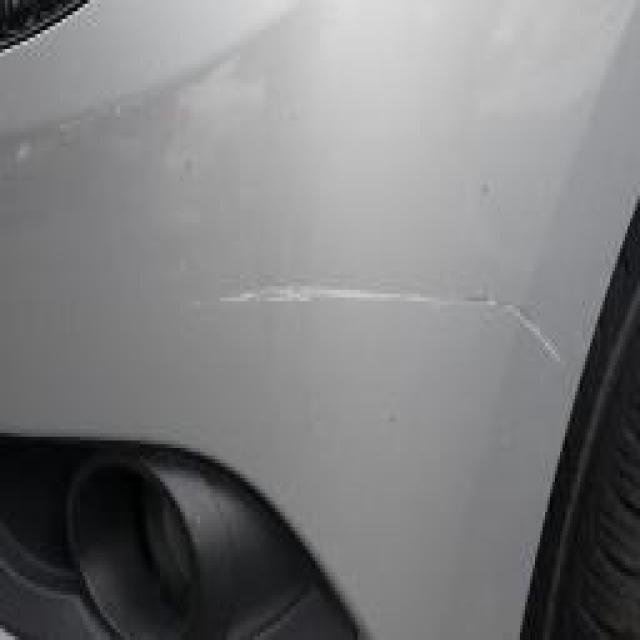Bumper: (185, 248, 582, 414)
